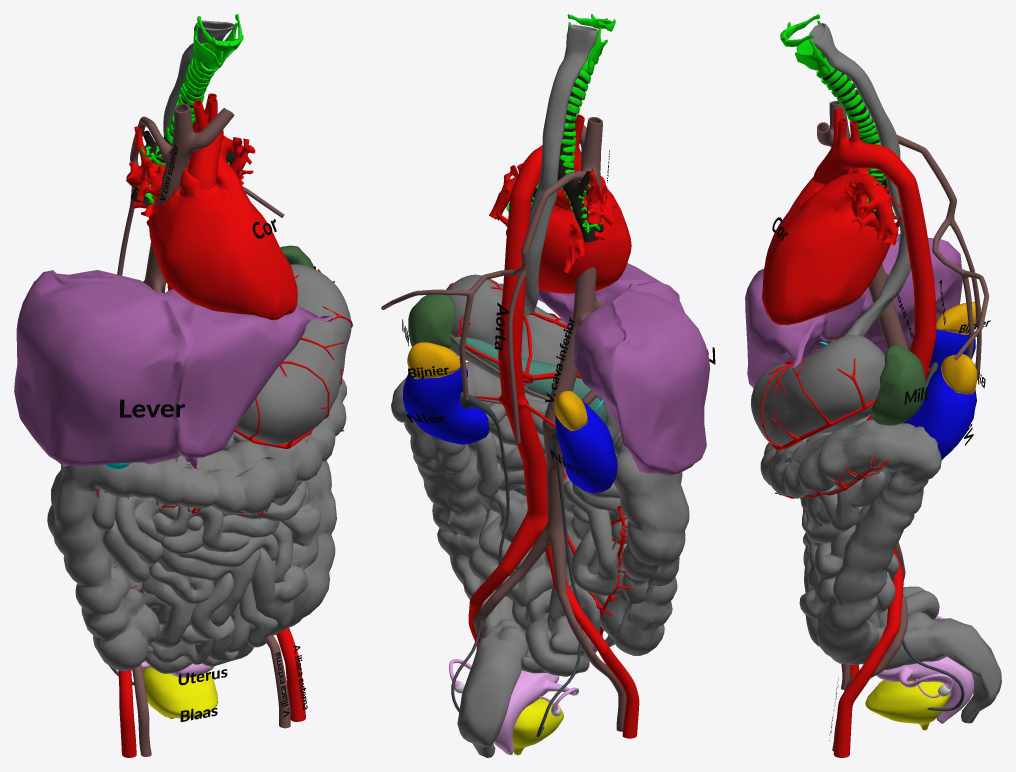
File: AbdomenTwo.fbx
The picture shows the model from 3 angles, left to right: view 1: azimuth 30°, elevation 25°; view 2: azimuth 150°, elevation 25°; view 3: azimuth 270°, elevation 25°; orthographic projection. The views are drawn at different scales.
Parts seen in each view (by area): view 1: Lever, Intestine_Small_Dunne_darms, Intestine_Large_Dikke_darms, Heart, Vein_1, Artery_1, Bladder_Blaas, Labels, Cartilage_throat, Cartilage_trachea, Artery_2, Trachea; view 2: Intestine_Small_Dunne_darms, Intestine_Large_Dikke_darms, Lever, Artery_1, Vein_1, Heart, Kidney_L, Kidney_R, Uterus1, Spleen_Milt, Pancreas, Trachea (+11 smaller); view 3: Intestine_Large_Dikke_darms, Intestine_Small_Dunne_darms, Heart, Artery_1, Lever, Vein_1, Kidney_L, Spleen_Milt, Bladder_Blaas, Uterus1, Cartilage_trachea, Artery_2 (+8 smaller).
Part boxes in pixels (bbox=[...]): Lever: bbox=[14, 270, 333, 469]; Intestine_Small_Dunne_darms: bbox=[92, 20, 351, 673]; Intestine_Large_Dikke_darms: bbox=[47, 378, 346, 671]; Heart: bbox=[126, 126, 297, 320]; Vein_1: bbox=[117, 103, 290, 756]; Artery_1: bbox=[118, 93, 305, 757]; Bladder_Blaas: bbox=[143, 667, 218, 718]; Labels: bbox=[120, 145, 315, 721]; Cartilage_throat: bbox=[193, 14, 243, 72]; Cartilage_trachea: bbox=[126, 57, 229, 204]; Artery_2: bbox=[234, 269, 352, 448]; Trachea: bbox=[130, 63, 235, 205]; Intestine_Small_Dunne_darms: bbox=[447, 24, 628, 676]; Intestine_Large_Dikke_darms: bbox=[391, 361, 689, 757]; Lever: bbox=[500, 263, 709, 475]; Artery_1: bbox=[468, 114, 639, 738]; Vein_1: bbox=[381, 117, 626, 731]; Heart: bbox=[489, 163, 631, 293]; Kidney_L: bbox=[403, 367, 489, 444]; Kidney_R: bbox=[555, 402, 617, 493]; Uterus1: bbox=[449, 659, 578, 754]; Spleen_Milt: bbox=[408, 294, 454, 348]; Pancreas: bbox=[451, 336, 606, 423]; Trachea: bbox=[506, 73, 603, 242]; Intestine_Large_Dikke_darms: bbox=[760, 419, 1001, 723]; Intestine_Small_Dunne_darms: bbox=[751, 23, 939, 664]; Heart: bbox=[762, 168, 903, 325]; Artery_1: bbox=[813, 108, 936, 757]; Lever: bbox=[745, 233, 962, 388]; Vein_1: bbox=[817, 100, 989, 751]; Kidney_L: bbox=[902, 367, 976, 460]; Spleen_Milt: bbox=[871, 345, 926, 425]; Bladder_Blaas: bbox=[865, 680, 949, 730]; Uterus1: bbox=[876, 616, 973, 723]; Cartilage_trachea: bbox=[821, 70, 894, 215]; Artery_2: bbox=[758, 335, 876, 450].
Bounding box in the file's own units: 292 × 700 × 232.
